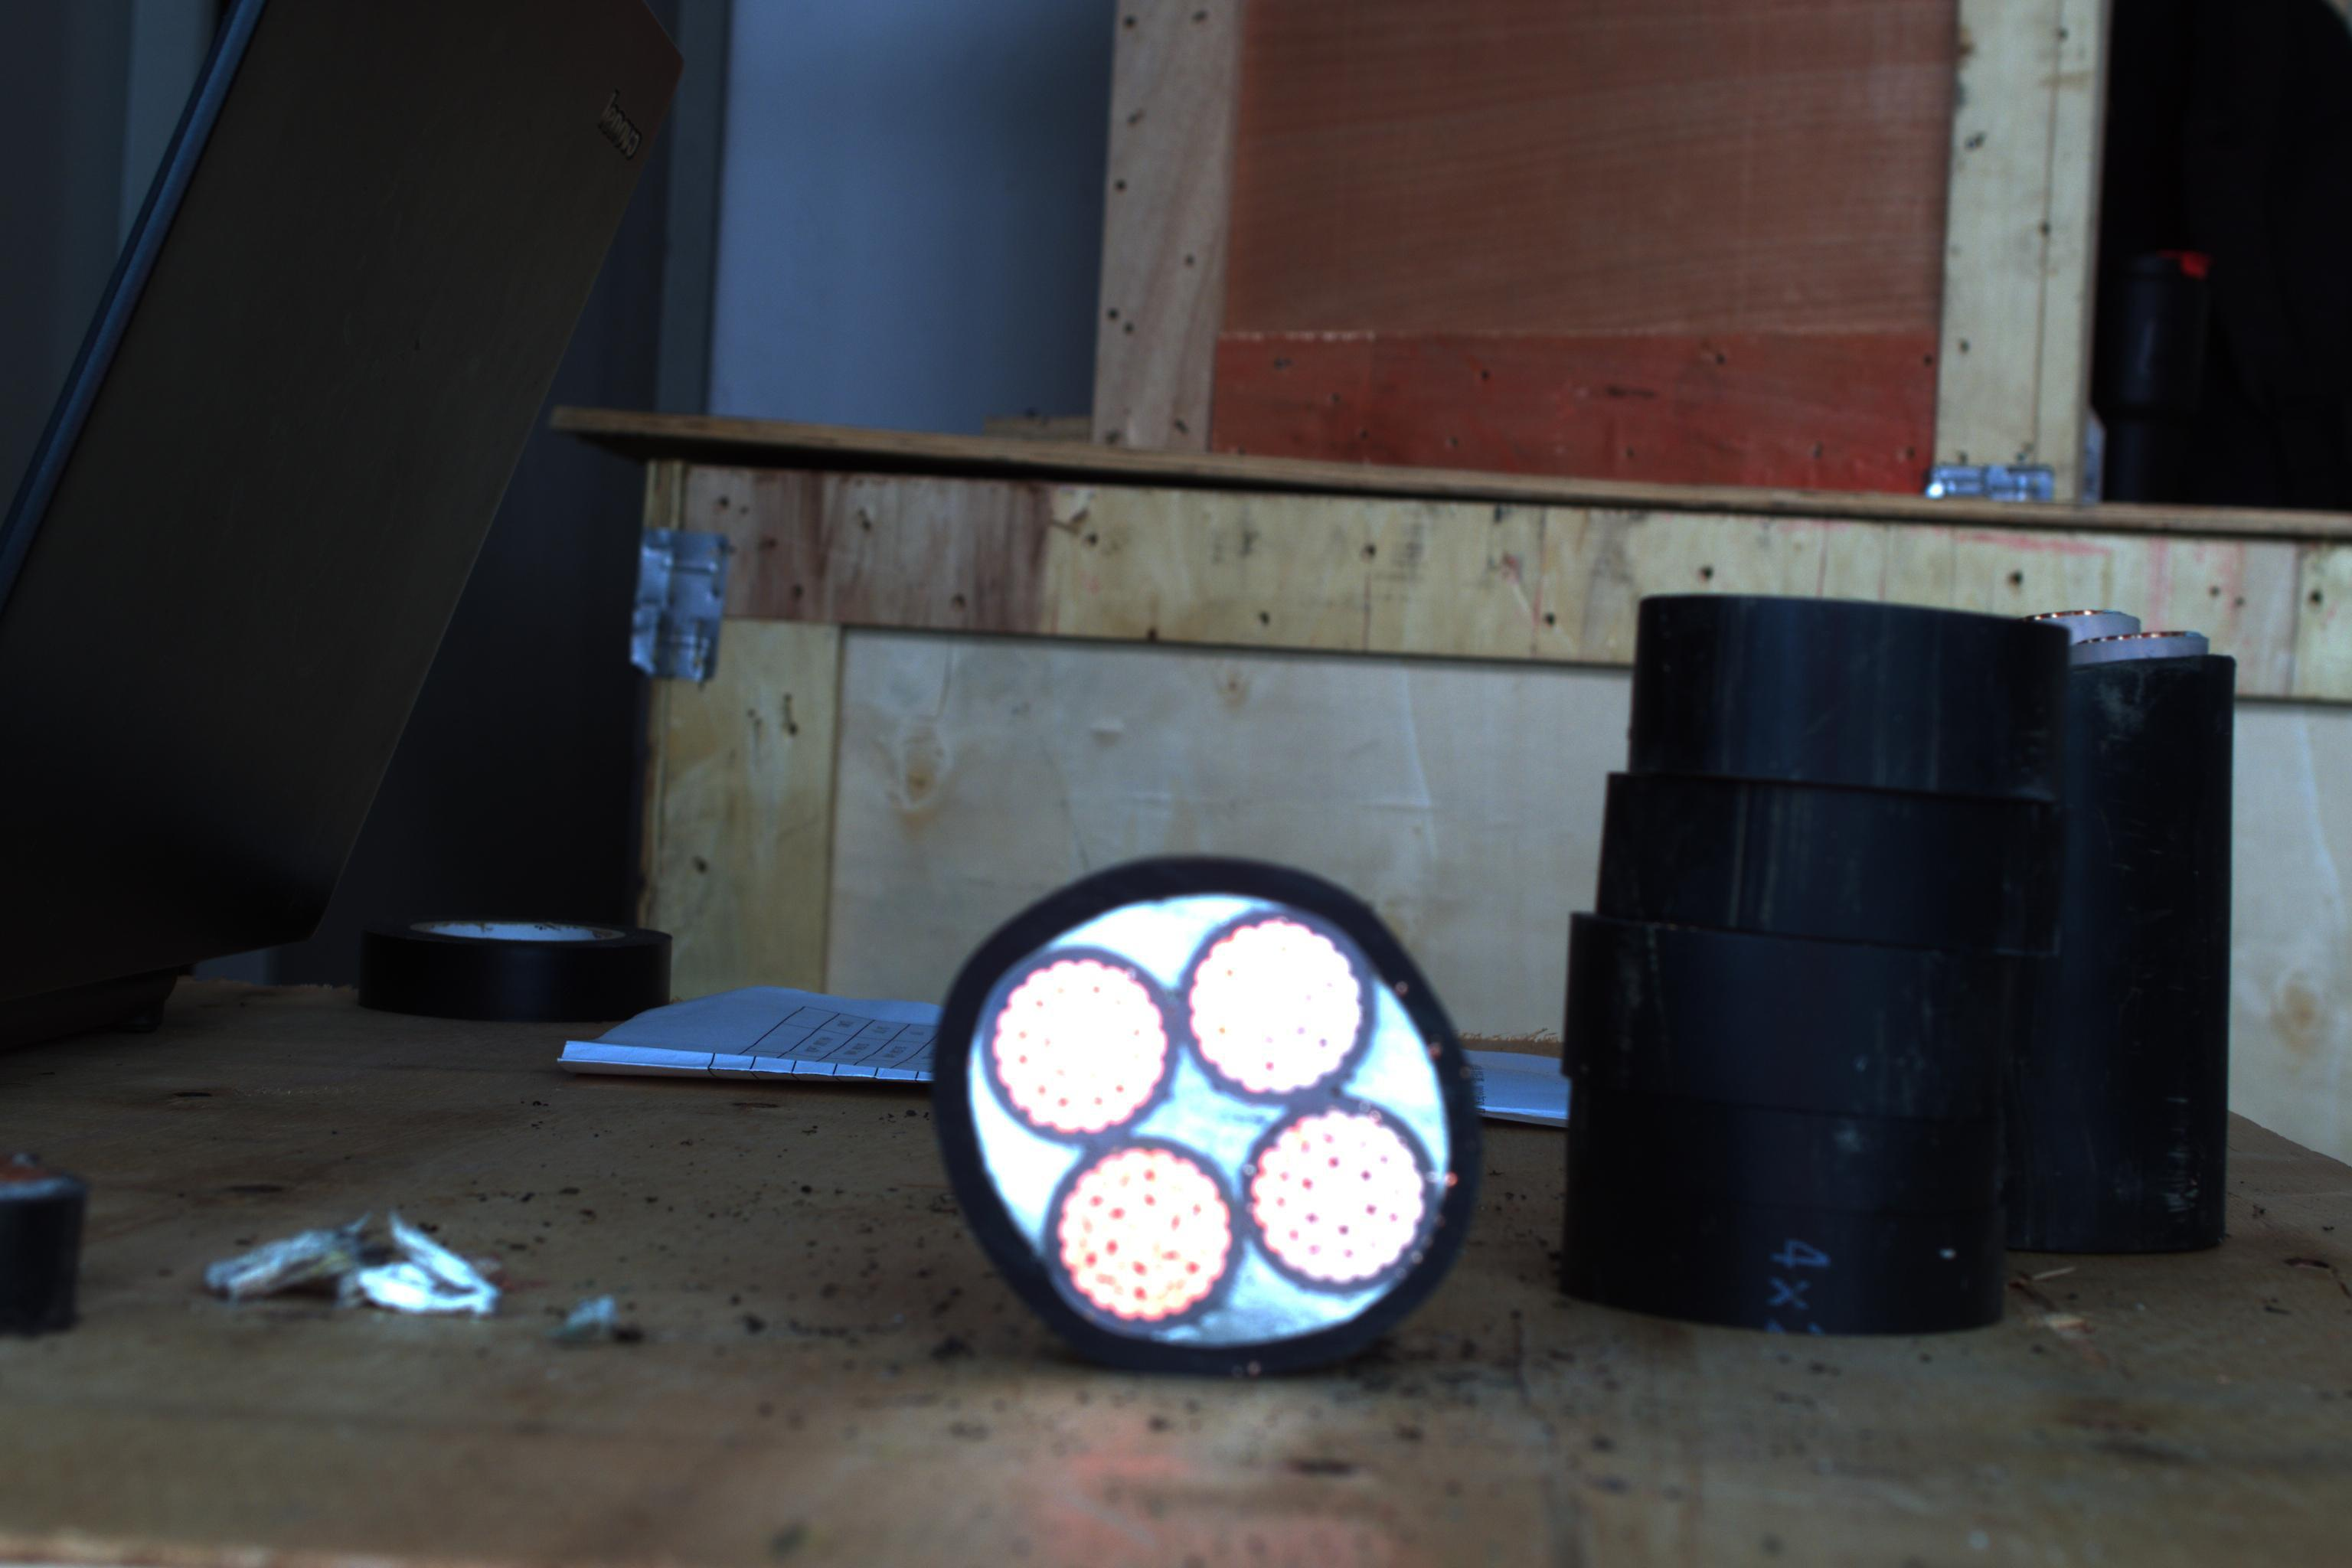YJV_0.6_1kV_4x240: (924, 873, 1470, 1358)
